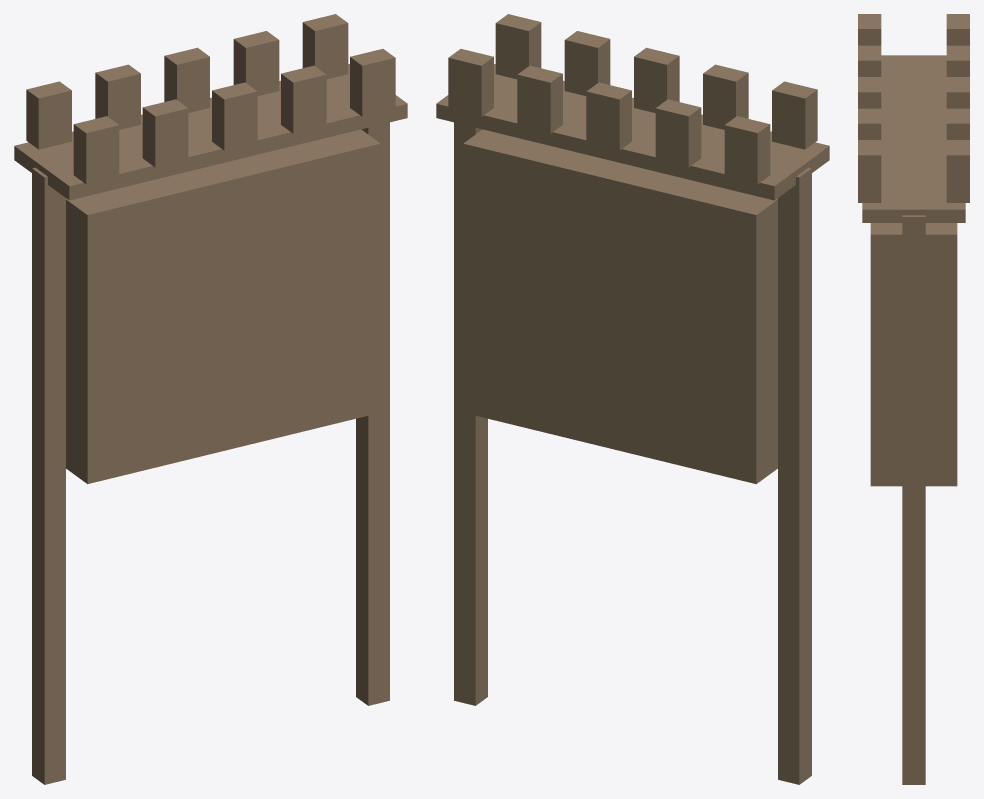
The model's file is garrison_gate.glb.
3 views of the same model, side by side, from view 1: azimuth 30°, elevation 25°; view 2: azimuth 150°, elevation 25°; view 3: azimuth 270°, elevation 25° (orthographic). The views are drawn at different scales.
Visible parts, largest first — view 1: garrison_gate; view 2: garrison_gate; view 3: garrison_gate.
Part boxes in pixels (x1,y1,x2,y2): garrison_gate: [14, 14, 407, 784]; garrison_gate: [436, 14, 829, 784]; garrison_gate: [858, 14, 969, 784].
Bounding box in the file's own units: 3.53 × 6.5 × 1.06.
